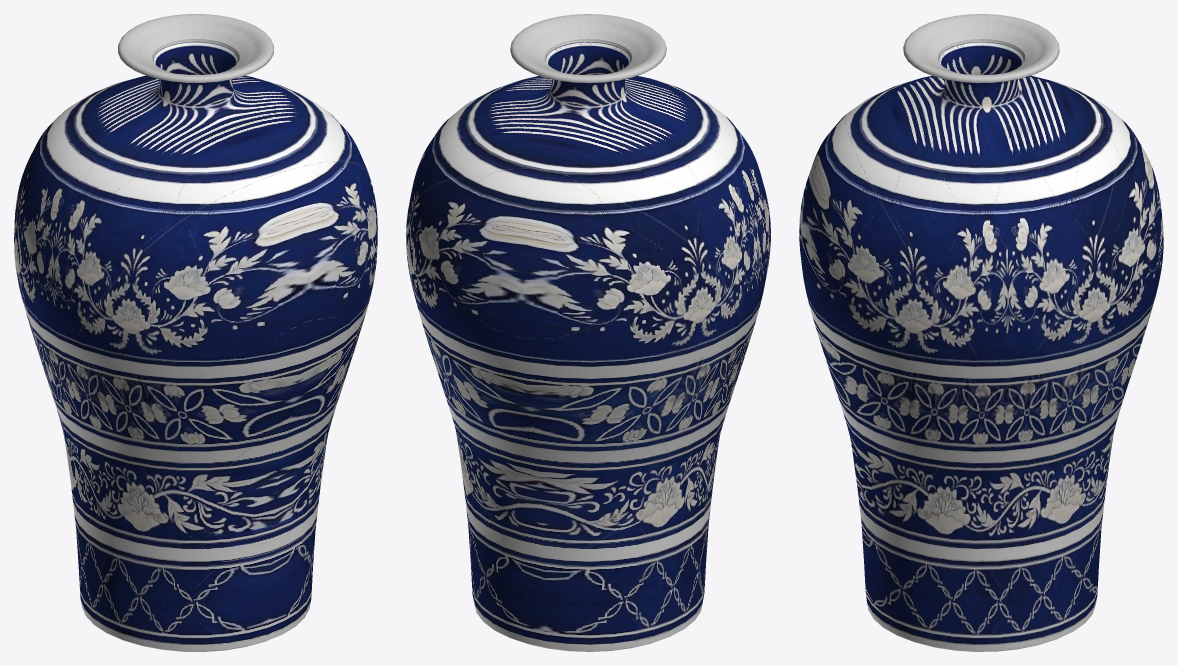
3 renders of one model, left to right at view 1: azimuth 30°, elevation 25°; view 2: azimuth 150°, elevation 25°; view 3: azimuth 270°, elevation 25°, orthographic.
Visible parts, largest first — view 1: TC4.001, top; view 2: TC4.001, top; view 3: TC4.001, top.
Part boxes in pixels (x1,y1,x2,y2): TC4.001: [14, 41, 377, 650]; top: [118, 14, 273, 82]; TC4.001: [406, 41, 770, 650]; top: [510, 14, 666, 83]; TC4.001: [799, 41, 1163, 650]; top: [903, 14, 1059, 83].
Size of the model in its own units: 0.2408 by 0.4184 by 0.2408.
Materials: 2 (1 with a texture image).
